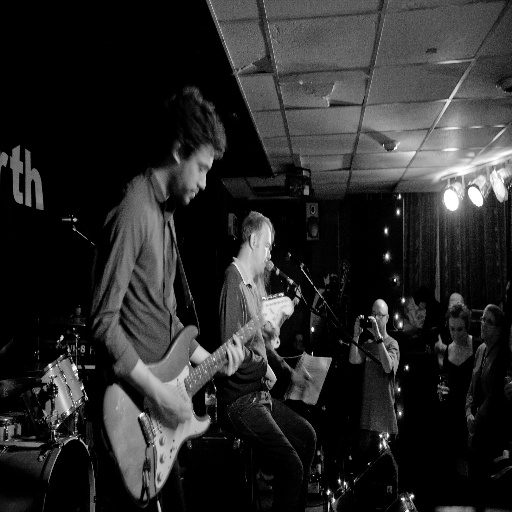hand: (156, 385, 192, 427), (221, 334, 243, 375), (291, 365, 317, 389), (261, 364, 276, 389), (353, 314, 364, 338), (366, 316, 378, 338), (435, 384, 450, 398), (270, 327, 280, 339), (505, 376, 511, 395), (467, 412, 475, 426)
